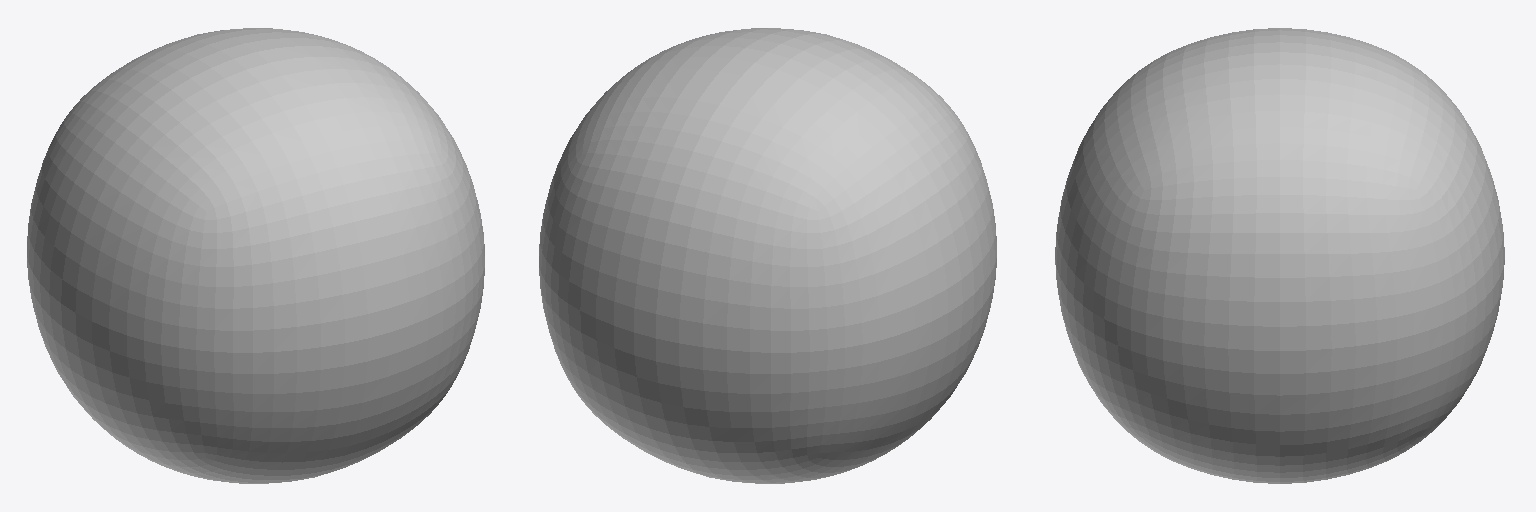
File: baseball.obj
3 renders of one model, left to right at view 1: azimuth 30°, elevation 25°; view 2: azimuth 150°, elevation 25°; view 3: azimuth 270°, elevation 25°, orthographic.
Visible parts, largest first — view 1: Box001; view 2: Box001; view 3: Box001.
Part boxes in pixels (x1,y1,x2,y2): Box001: (27, 28, 484, 483); Box001: (539, 28, 996, 483); Box001: (1055, 28, 1504, 483).
Bounding box in the file's own units: 9.03 × 9.03 × 9.03.